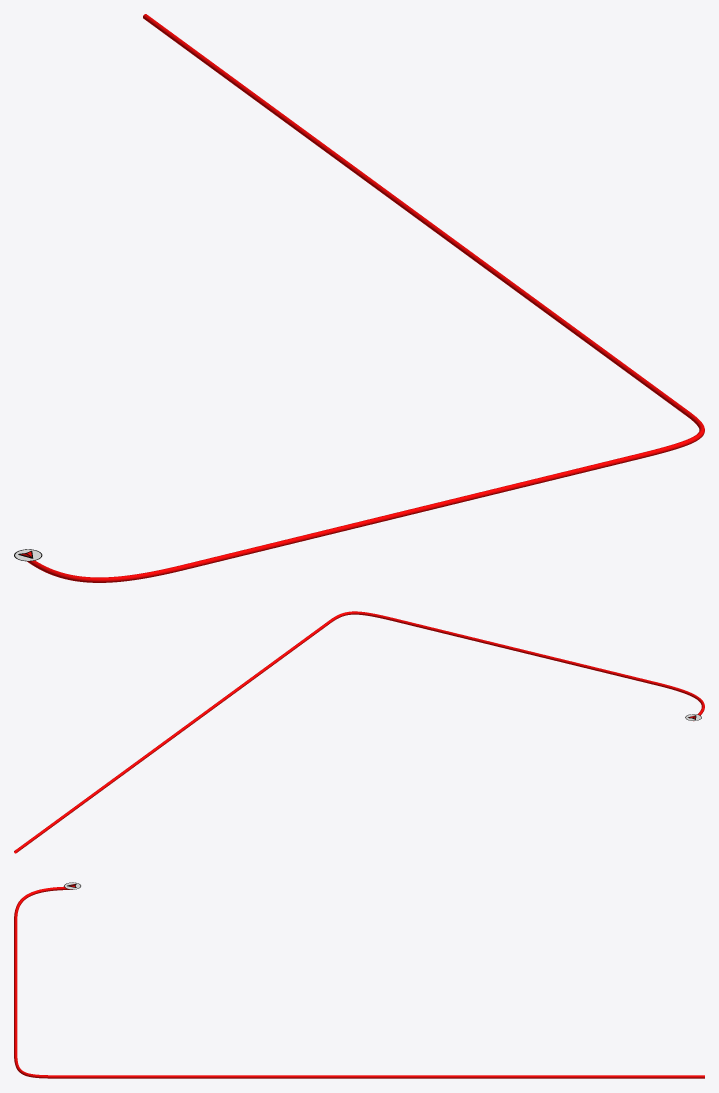
The model's file is route_6c5e8c9c-c210-4144-89e5-7ab88731a6ed_en_target.glb.
3 views of the same model, one above another, from view 1: azimuth 30°, elevation 25°; view 2: azimuth 150°, elevation 25°; view 3: azimuth 270°, elevation 25° (orthographic). The views are drawn at different scales.
Parts seen in each view (by area): view 1: Station 8.001; view 2: Station 8.001; view 3: Station 8.001.
Part boxes in pixels (left/top/right/bottom): Station 8.001: left=27, top=14, right=704, bottom=582; Station 8.001: left=14, top=611, right=704, bottom=853; Station 8.001: left=14, top=886, right=704, bottom=1078.
Bounding box in the file's own units: 10.9 × 0.1086 × 16.5.
